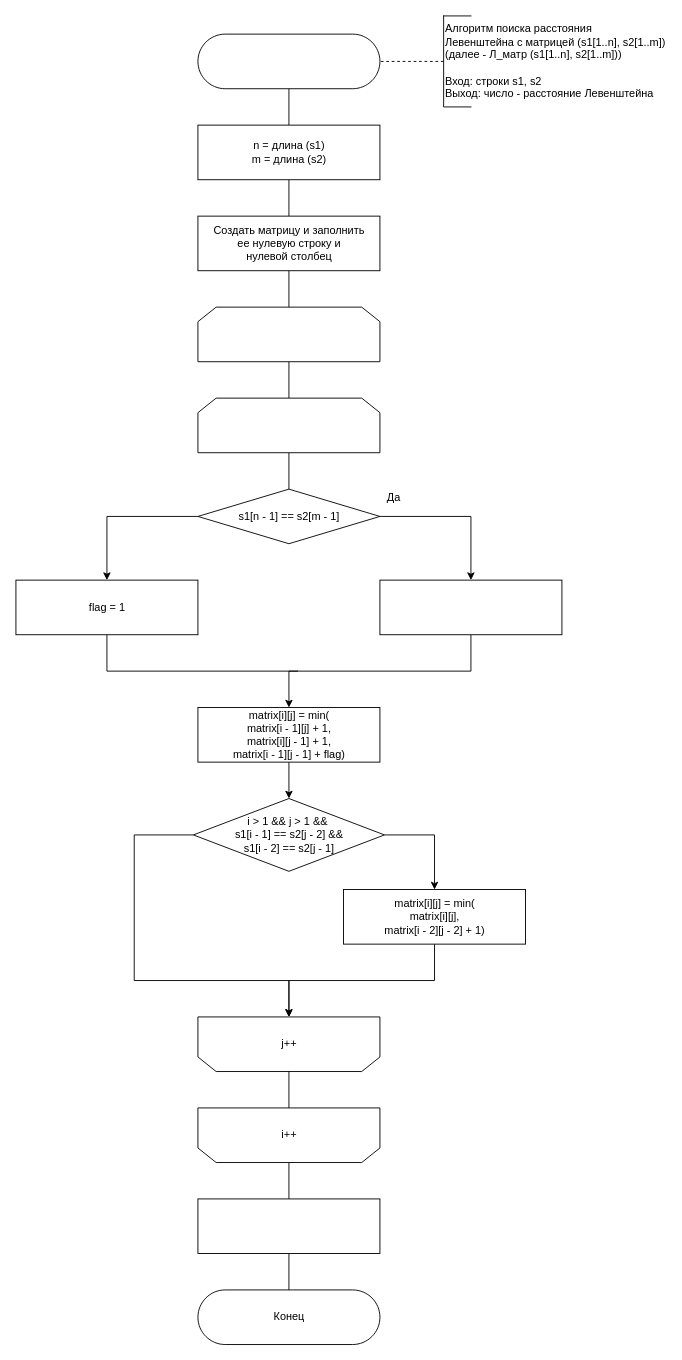
The diagram is 682 pixels wide and 1360 high, and some of its shapes have lost their labels. The centre of each missing label's shape, as x and y in pixels:
"flag = 0" goes at (470,607).
"i = 1 .. n + 1" goes at (288,334).
"j = 1 .. m + 1" goes at (288,425).
"Вернуть matrix[n][m]" goes at (288,1226).
"Начало" goes at (288,61).
